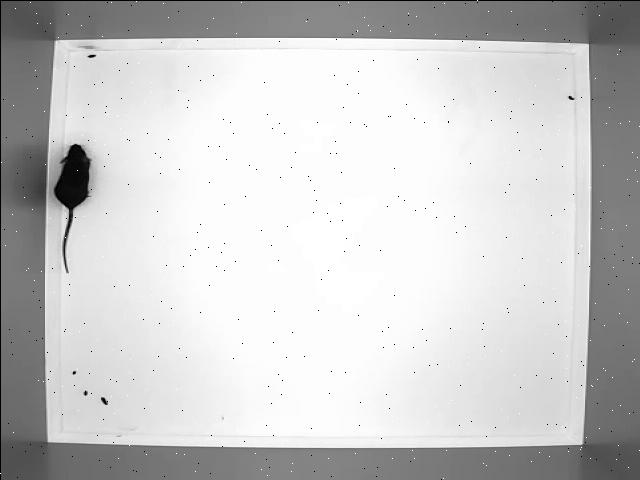Tikus: (50, 142, 90, 274)
